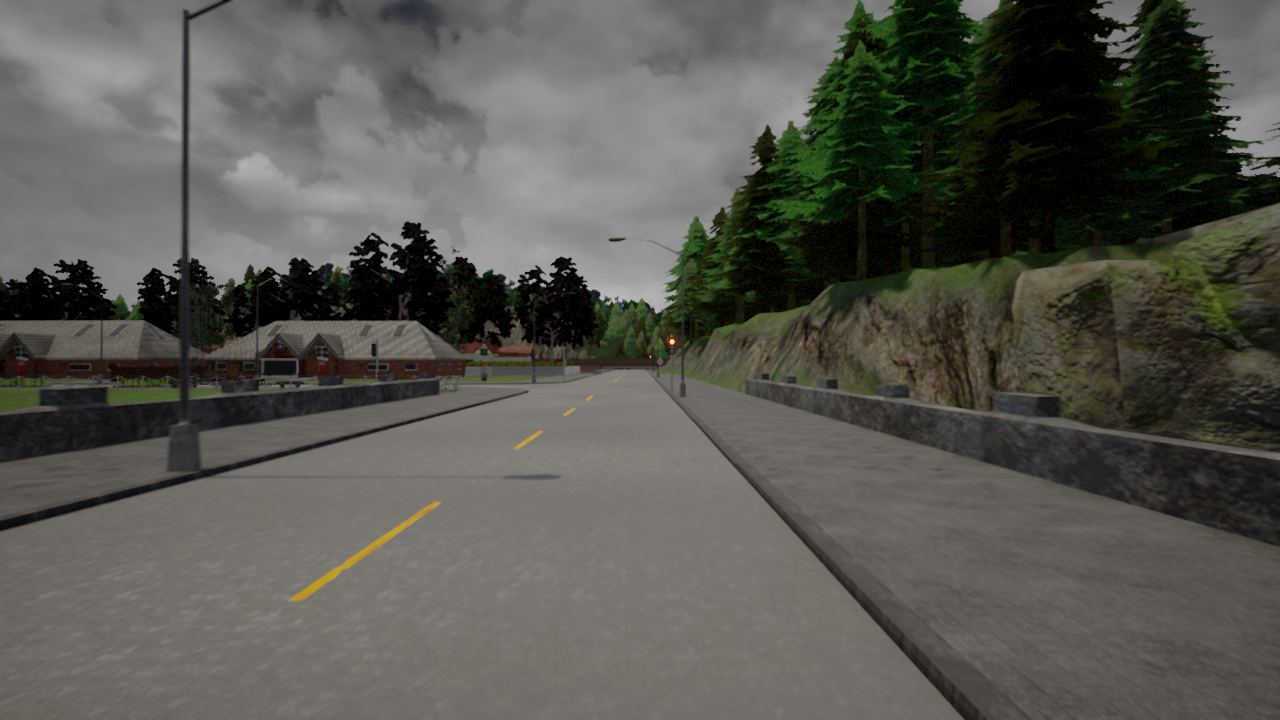red: (668, 337, 676, 356)
